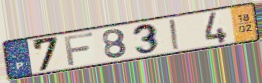3: (132, 22, 165, 56)
4: (203, 10, 230, 45)
7: (31, 35, 61, 73)
8: (101, 28, 128, 59)
F: (62, 31, 96, 67)
I: (167, 17, 182, 51)
